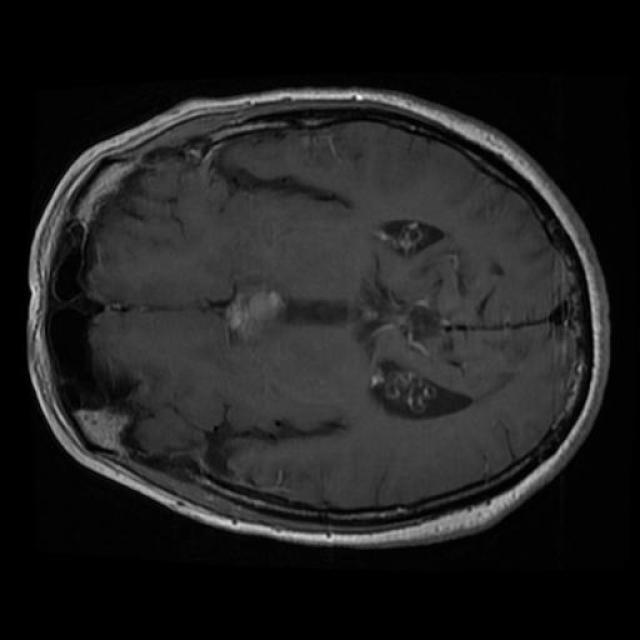Pituitary: (226, 289, 286, 339)
